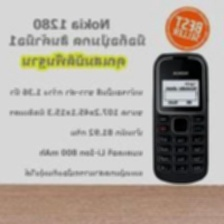phone: (149, 49, 212, 187)
